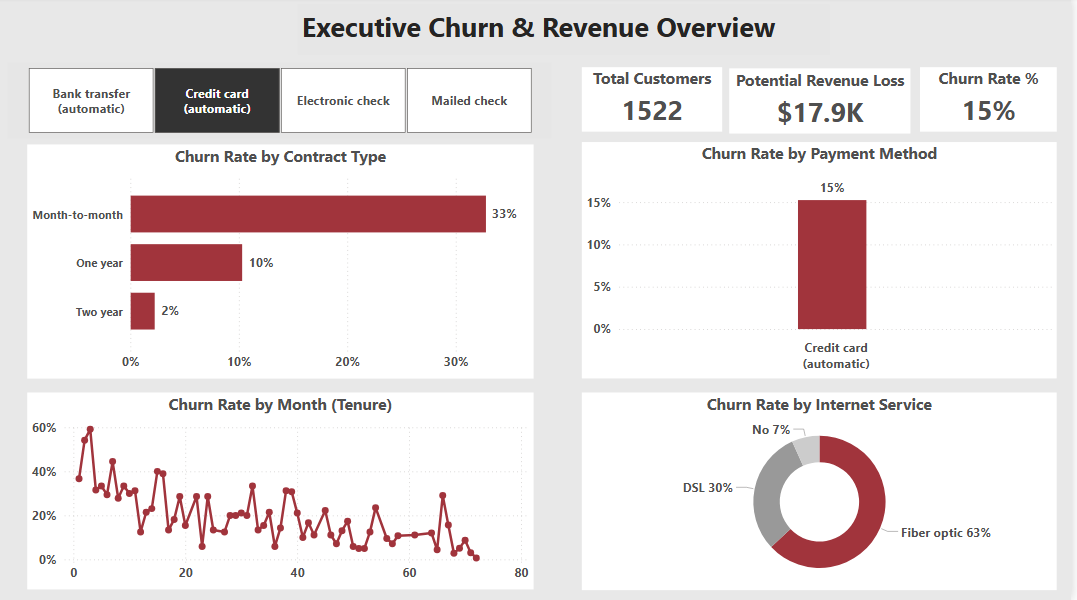

The page's visual inventory and layout, read from the dashboard file:
{"tool":"powerbi","page":{"name":"Churn Executive Summary","canvas":[1280,720],"ordinal":0},"visuals":[{"type":"card","title":"Churn Rate %","fields":{"Values":["Telco_Churn_For_Dashboard.Churn Rate %"]},"box":[1100.2,83.8,163.4,76.8],"z":0},{"type":"clusteredBarChart","title":"Churn Rate by Contract Type","fields":{"Category":["Telco_Churn_For_Dashboard.Contract"],"Y":["Telco_Churn_For_Dashboard.Churn Rate %"]},"box":[35.5,175.9,604.2,279.4],"z":1000},{"type":"donutChart","title":"Churn Rate by Internet Service","fields":{"Category":["Telco_Churn_For_Dashboard.InternetService"],"Y":["Telco_Churn_For_Dashboard.Churn Rate %"]},"box":[696.7,471.9,566.9,236],"z":2000},{"type":"columnChart","title":"Churn Rate by Payment Method","fields":{"Category":["Telco_Churn_For_Dashboard.PaymentMethod"],"Y":["Telco_Churn_For_Dashboard.Churn Rate %"]},"box":[696.7,173.1,566.9,282],"z":3000},{"type":"card","title":"Total Customers","fields":{"Values":["CountNonNull(Telco_Churn_For_Dashboard.Customer ID)"]},"box":[696.7,83.8,167.5,76.8],"z":4000},{"type":"card","title":"Potential Revenue Loss","fields":{"Values":["Sum(Telco_Churn_For_Dashboard.MonthlyCharges)"]},"box":[872.6,85.2,216.4,78.2],"z":5000},{"type":"lineChart","title":"Churn Rate by Month (Tenure)","fields":{"Y":["Telco_Churn_For_Dashboard.Churn Rate %"],"Category":["Telco_Churn_For_Dashboard.tenure"]},"box":[35.5,472.3,604.2,235.4],"z":6000},{"type":"textbox","box":[357.4,8.5,635.4,61],"z":7000},{"type":"slicer","fields":{"Values":["Telco_Churn_For_Dashboard.PaymentMethod"]},"box":[11.2,78.2,649.3,90.8],"z":8000}]}

Visuals, with their boxes in screenshot pixels (x1, y1, x2, y2), scaled from the page's 1280x720 canvas onto the 1077x600 screenshot:
"Churn Rate %" card: crop(926, 70, 1063, 134)
"Churn Rate by Contract Type" clusteredBarChart: crop(30, 147, 538, 379)
"Churn Rate by Internet Service" donutChart: crop(586, 393, 1063, 590)
"Churn Rate by Payment Method" columnChart: crop(586, 144, 1063, 379)
"Total Customers" card: crop(586, 70, 727, 134)
"Potential Revenue Loss" card: crop(734, 71, 916, 136)
"Churn Rate by Month (Tenure)" lineChart: crop(30, 394, 538, 590)
textbox: crop(301, 7, 835, 58)
slicer - Telco_Churn_For_Dashboard.PaymentMethod: crop(9, 65, 556, 141)
